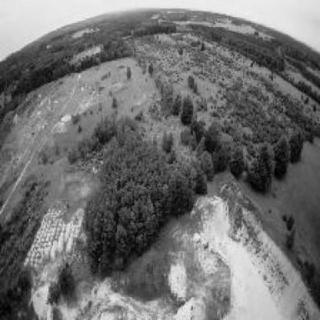other: (175, 211, 298, 313)
